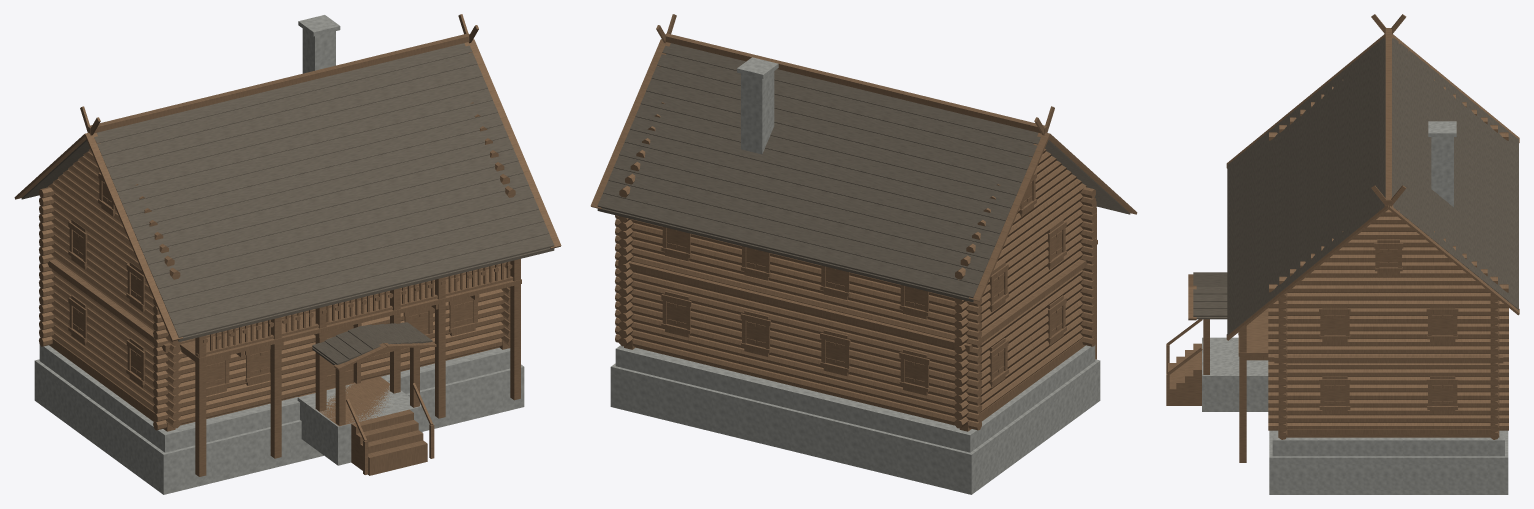
The picture shows the model from 3 angles, left to right: view 1: azimuth 30°, elevation 25°; view 2: azimuth 150°, elevation 25°; view 3: azimuth 270°, elevation 25°; orthographic projection. The views are drawn at different scales.
Visible parts, largest first — view 1: T1_roof, T1_foundation, T1_gable, T1_frame, T1_shell, T1_gallery.001, T1_railing, T1_gallery, T1_entry_step, T1_shutter, T1_porch, T1_chimney (+3 smaller); view 2: T1_roof, T1_shell, T1_foundation, T1_frame, T1_gable, T1_shutter, T1_chimney, T1_floor; view 3: T1_roof, T1_gable, T1_foundation, T1_frame, T1_shell, T1_shutter, T1_chimney, T1_entry_step, T1_gallery.001, T1_gallery, T1_floor, T1_porch.001 (+1 smaller).
Boxes of the visible parts, left/top/right/bottom form: T1_roof: left=21, top=43, right=554, bottom=365; T1_foundation: left=34, top=345, right=524, bottom=494; T1_gable: left=48, top=102, right=515, bottom=428; T1_frame: left=14, top=14, right=561, bottom=395; T1_shell: left=39, top=187, right=510, bottom=431; T1_gallery.001: left=181, top=259, right=520, bottom=476; T1_railing: left=196, top=261, right=513, bottom=474; T1_gallery: left=180, top=266, right=521, bottom=362; T1_entry_step: left=351, top=409, right=427, bottom=475; T1_shutter: left=73, top=181, right=473, bottom=387; T1_porch: left=298, top=376, right=390, bottom=426; T1_chimney: left=298, top=15, right=340, bottom=73; T1_roof: left=597, top=43, right=1130, bottom=302; T1_shell: left=615, top=187, right=1095, bottom=431; T1_foundation: left=610, top=345, right=1100, bottom=494; T1_frame: left=590, top=14, right=1137, bottom=395; T1_gable: left=619, top=102, right=1086, bottom=428; T1_shutter: left=667, top=181, right=1062, bottom=386; T1_chimney: left=737, top=57, right=778, bottom=154; T1_floor: left=635, top=347, right=1033, bottom=429; T1_roof: left=1193, top=37, right=1518, bottom=335; T1_gable: left=1268, top=79, right=1508, bottom=430; T1_foundation: left=1202, top=337, right=1508, bottom=494; T1_frame: left=1226, top=14, right=1519, bottom=413; T1_shell: left=1278, top=293, right=1499, bottom=439; T1_shutter: left=1324, top=248, right=1453, bottom=405; T1_chimney: left=1428, top=121, right=1456, bottom=207; T1_entry_step: left=1168, top=343, right=1201, bottom=405; T1_gallery.001: left=1239, top=326, right=1268, bottom=462; T1_gallery: left=1238, top=308, right=1268, bottom=356; T1_floor: left=1286, top=434, right=1490, bottom=437; T1_porch.001: left=1188, top=274, right=1209, bottom=374.
Bounding box in the file's own units: 14.7 × 12.36 × 12.49.
4 materials, 3 textured.
